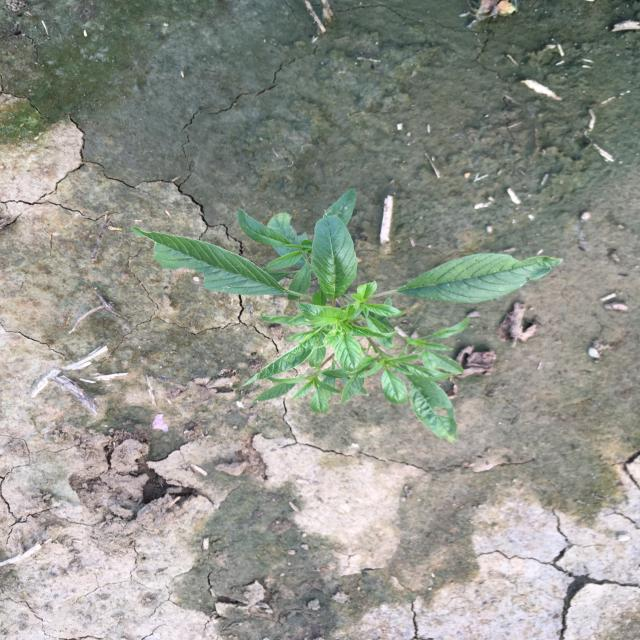Waterhemp: (129, 186, 567, 446)
